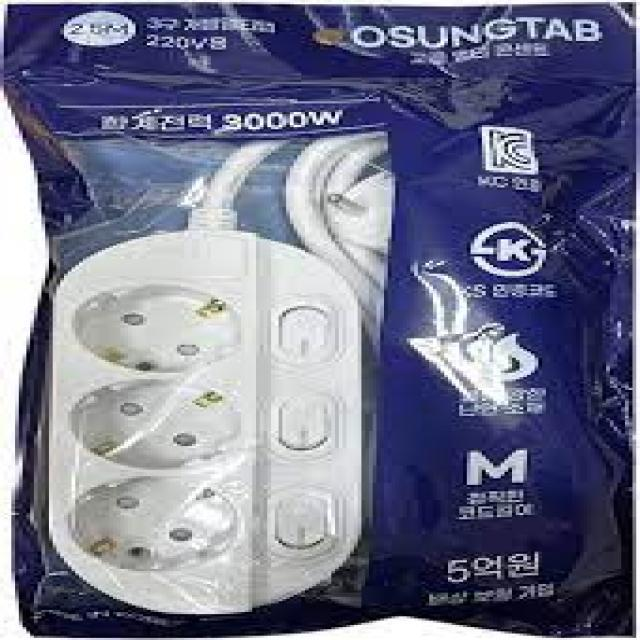typeb: (24, 207, 411, 626)
